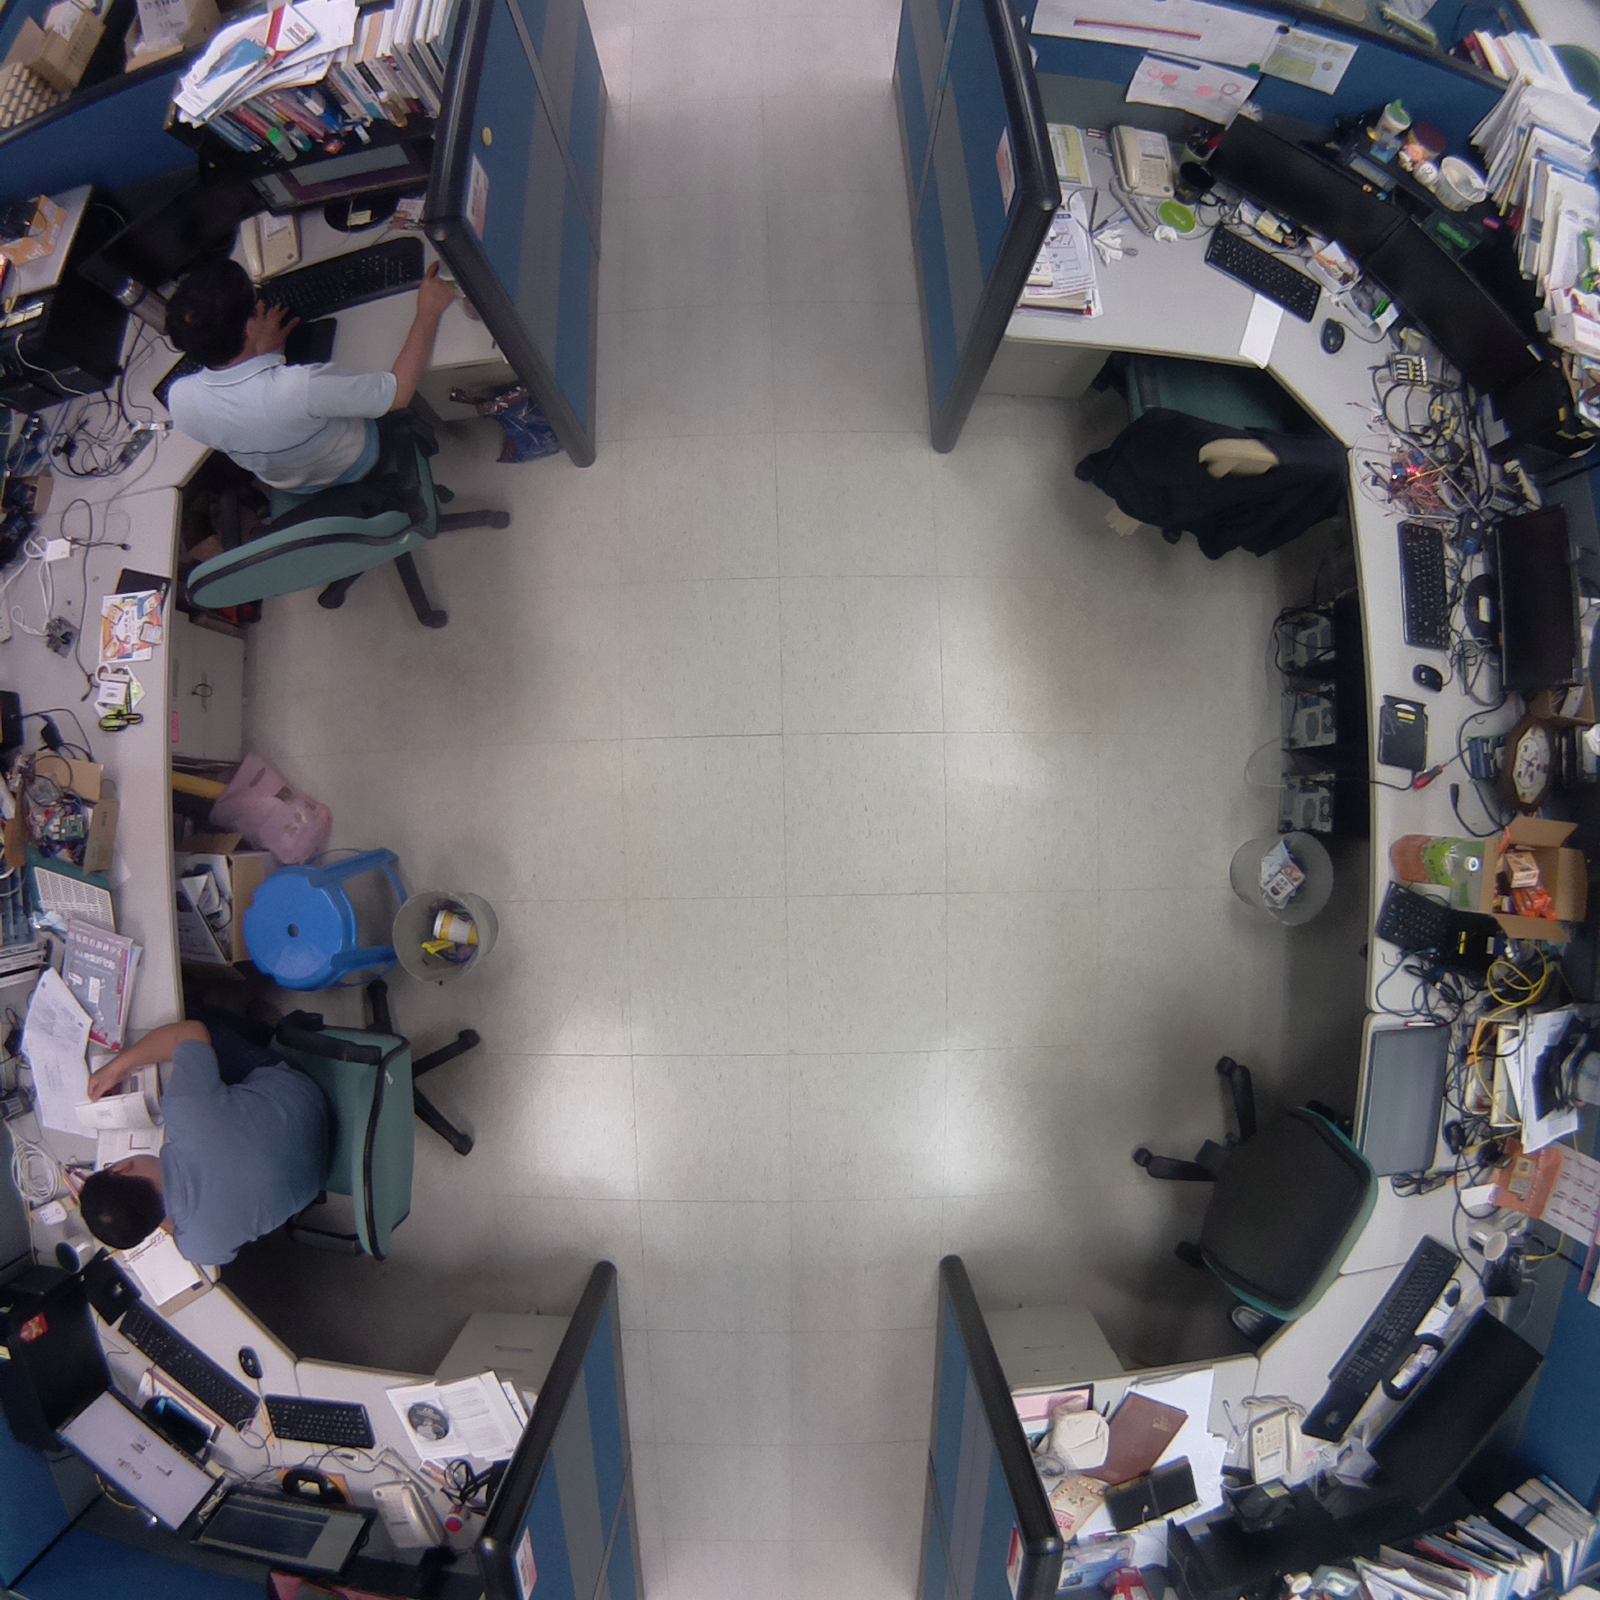chair: (1117, 1034, 1394, 1358), (1053, 332, 1358, 581)
head: (152, 249, 279, 367), (70, 1143, 174, 1260)
sitting: (148, 241, 519, 650), (58, 963, 491, 1280)
